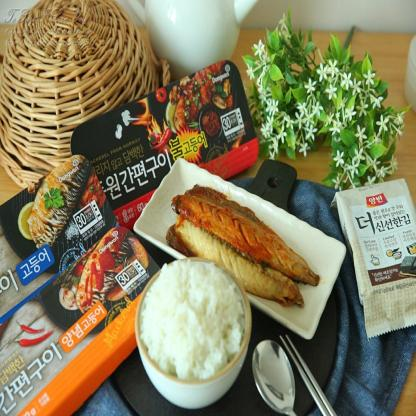Peixe: (172, 177, 328, 305)
